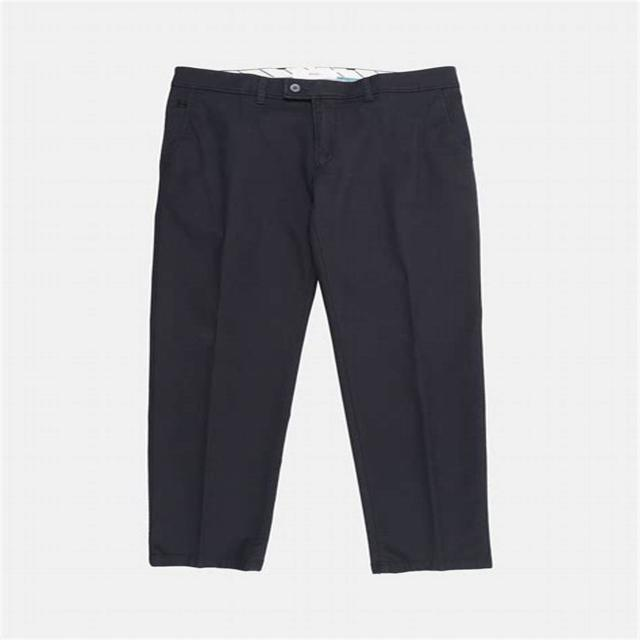long-pants: (141, 64, 492, 572)
